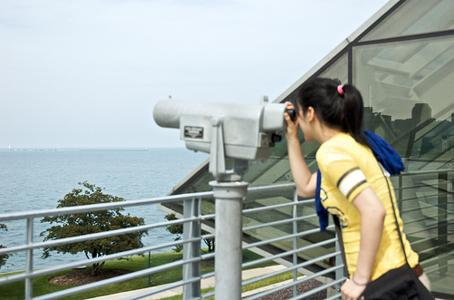person: (284, 78, 433, 300)
